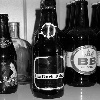beer: (31, 1, 66, 98)
